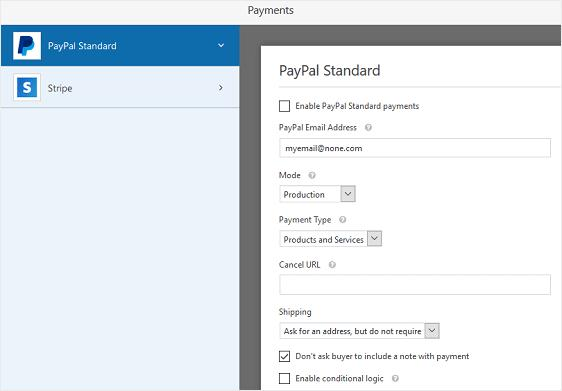checkbox: (273, 97, 293, 114), (275, 370, 293, 386), (275, 350, 293, 363)
dropdown: (277, 321, 450, 346), (277, 228, 389, 253), (275, 182, 361, 206)
textbox: (274, 135, 555, 161)
